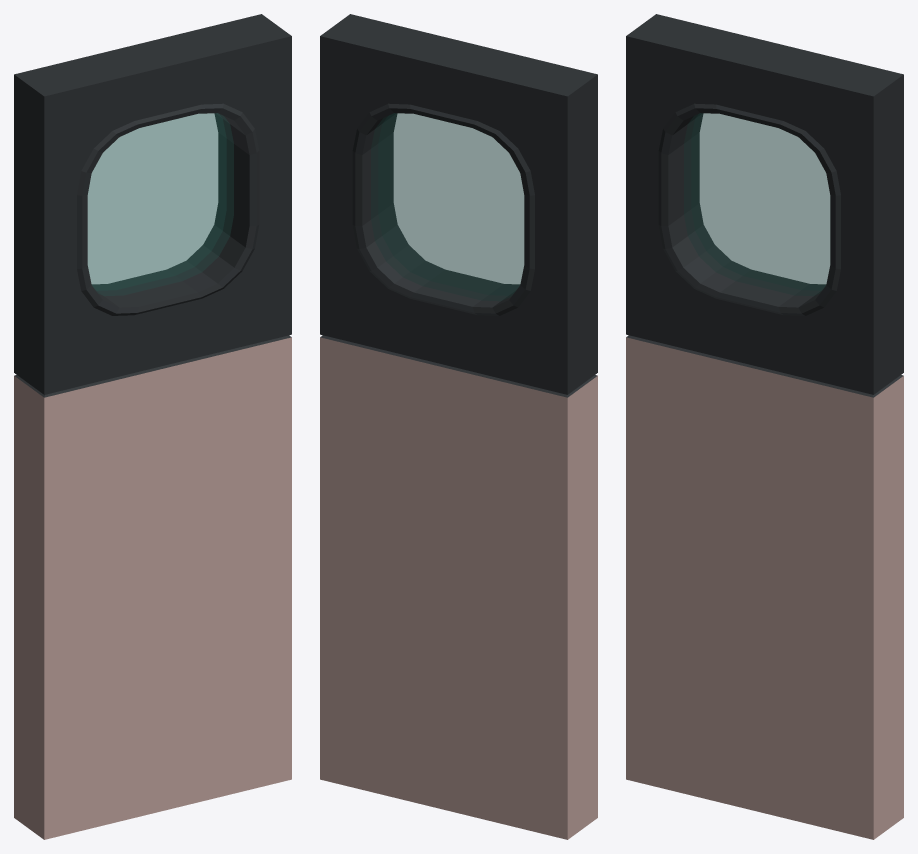
File: SM_wall_window_02.fbx
The picture shows the model from 3 angles, left to right: view 1: azimuth 30°, elevation 25°; view 2: azimuth 150°, elevation 25°; view 3: azimuth 330°, elevation 25°; orthographic projection.
Parts seen in each view (by area): view 1: wall_window_02; view 2: wall_window_02; view 3: wall_window_02.
Part boxes in pixels (x1,y1,x2,y2): wall_window_02: [14, 14, 291, 839]; wall_window_02: [320, 14, 597, 839]; wall_window_02: [626, 14, 903, 839].
Bounding box in the file's own units: 106 × 303 × 24.38.
